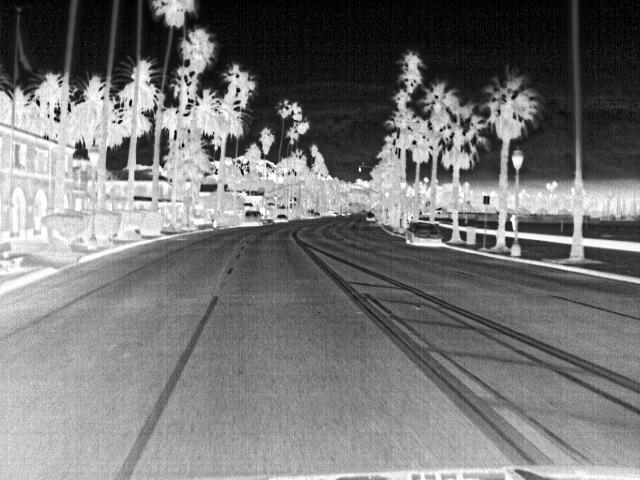car: (406, 222, 446, 248), (243, 209, 264, 227), (364, 211, 376, 222), (277, 213, 290, 223)
person: (507, 212, 522, 231)
